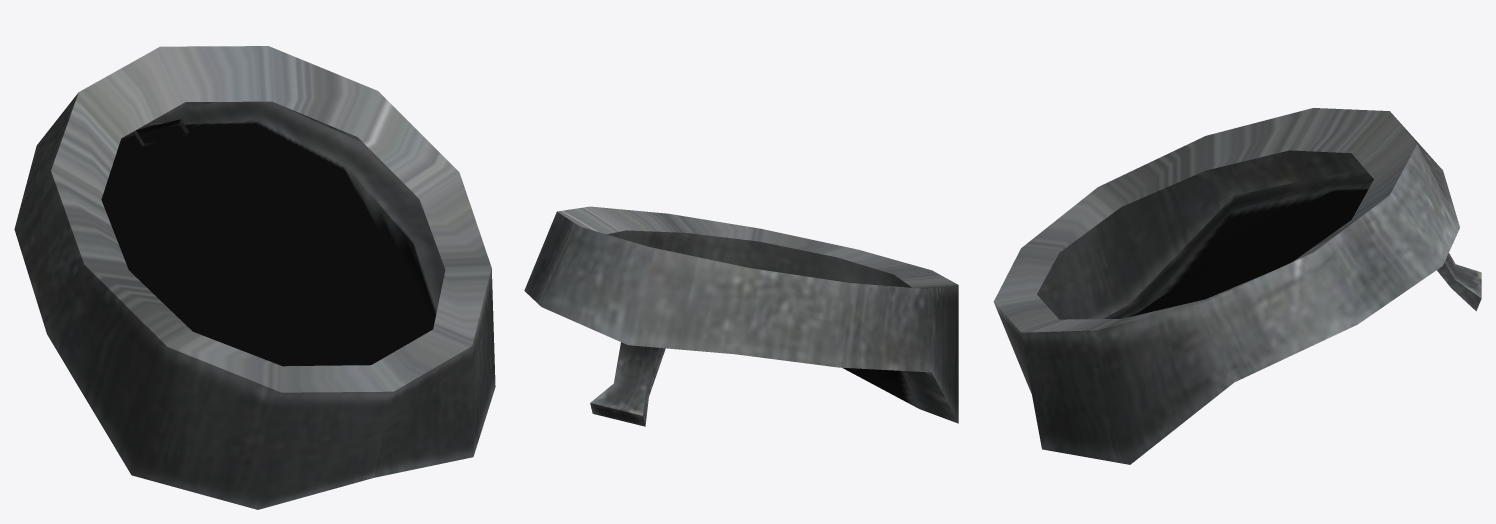
File: helmet01.FBX
The picture shows the model from 3 angles, left to right: view 1: azimuth 30°, elevation 25°; view 2: azimuth 150°, elevation 25°; view 3: azimuth 270°, elevation 25°; orthographic projection. The views are drawn at different scales.
Parts seen in each view (by area): view 1: helmet01; view 2: helmet01; view 3: helmet01.
Boxes of the visible parts, x1=… form: helmet01: x1=14, y1=46, x2=495, y2=509; helmet01: x1=524, y1=206, x2=958, y2=426; helmet01: x1=993, y1=108, x2=1481, y2=464.
Bounding box in the file's own units: 0.3098 × 0.3467 × 0.3216.
